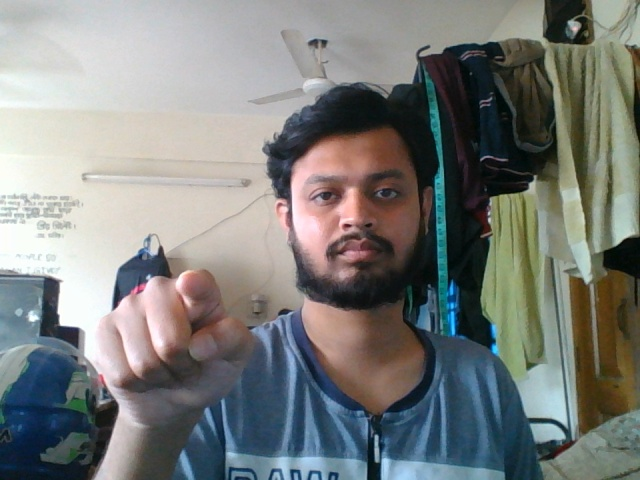tumi: (79, 264, 266, 449)
